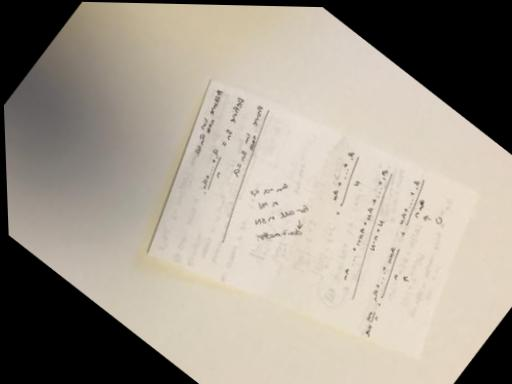paper: (103, 6, 511, 383)
